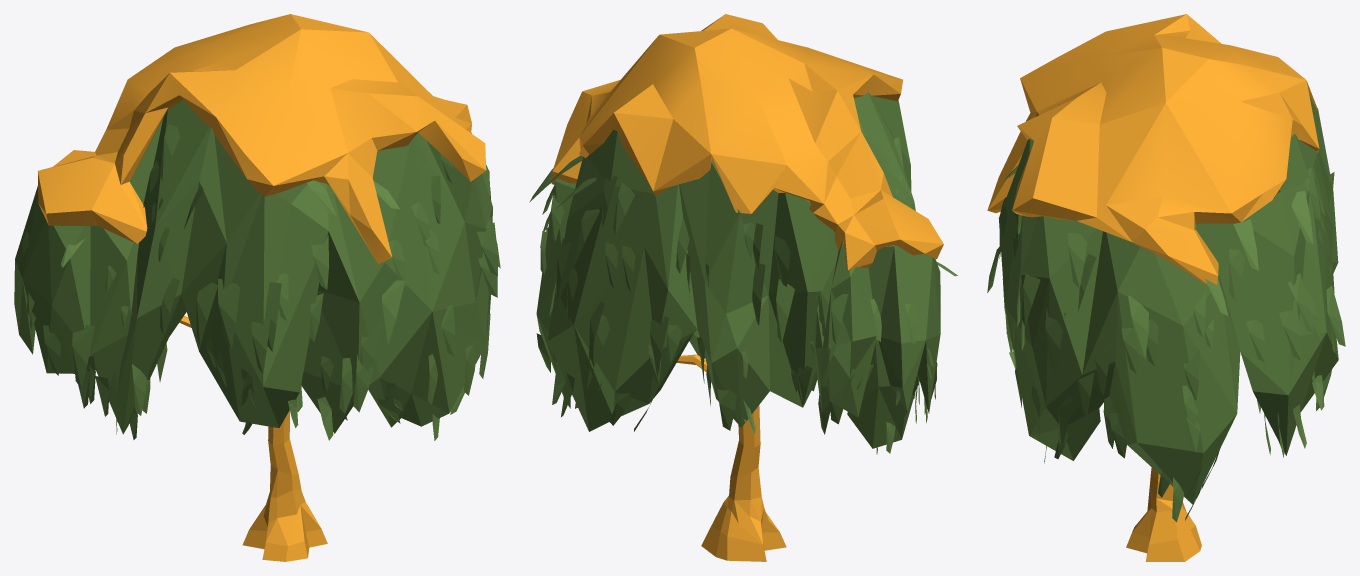
The model's file is SM_Tree_Willow_Weeping_Young_A_Snow.fbx.
3 views of the same model, side by side, from view 1: azimuth 30°, elevation 25°; view 2: azimuth 150°, elevation 25°; view 3: azimuth 270°, elevation 25° (orthographic).
Parts seen in each view (by area): view 1: tree-willow-weeping-young-a-snow; view 2: tree-willow-weeping-young-a-snow; view 3: tree-willow-weeping-young-a-snow.
Boxes of the visible parts, box(x1,y1,x2,y2) form: tree-willow-weeping-young-a-snow: box(14, 14, 500, 561); tree-willow-weeping-young-a-snow: box(529, 14, 957, 561); tree-willow-weeping-young-a-snow: box(987, 14, 1345, 561).
Bounding box in the file's own units: 3.35 × 3.94 × 2.53.
